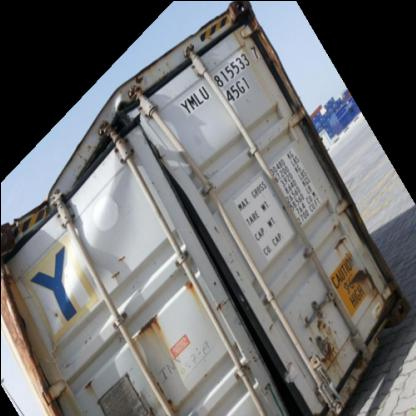Damage: (0, 144, 112, 336), (224, 292, 292, 416), (100, 61, 162, 132), (302, 310, 348, 380), (132, 312, 168, 344), (343, 262, 381, 290), (323, 212, 348, 252)
